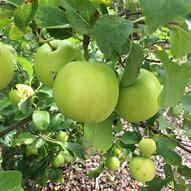apple: (53, 57, 118, 122), (113, 63, 164, 124), (28, 36, 84, 82)
